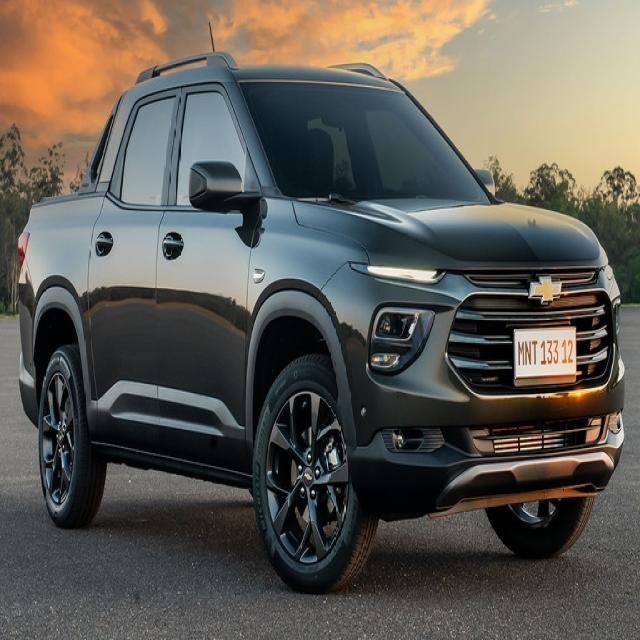person: (15, 28, 626, 595)
